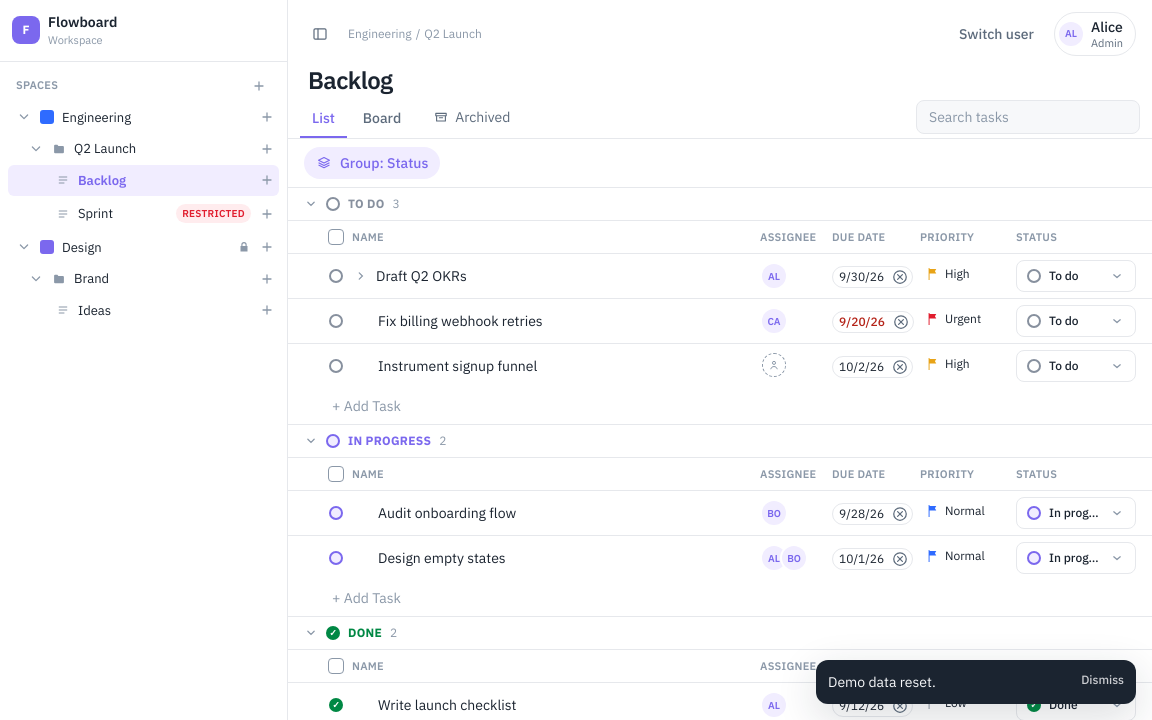
user switcher › hides Sprint and its tasks when switching from Alice to Bob
This screenshot has width=1152, height=720.
Expected: the button "Ideas" is shown, [56,294,251,326]
Click the button "Sprint": (114, 214) [56,198,172,230]
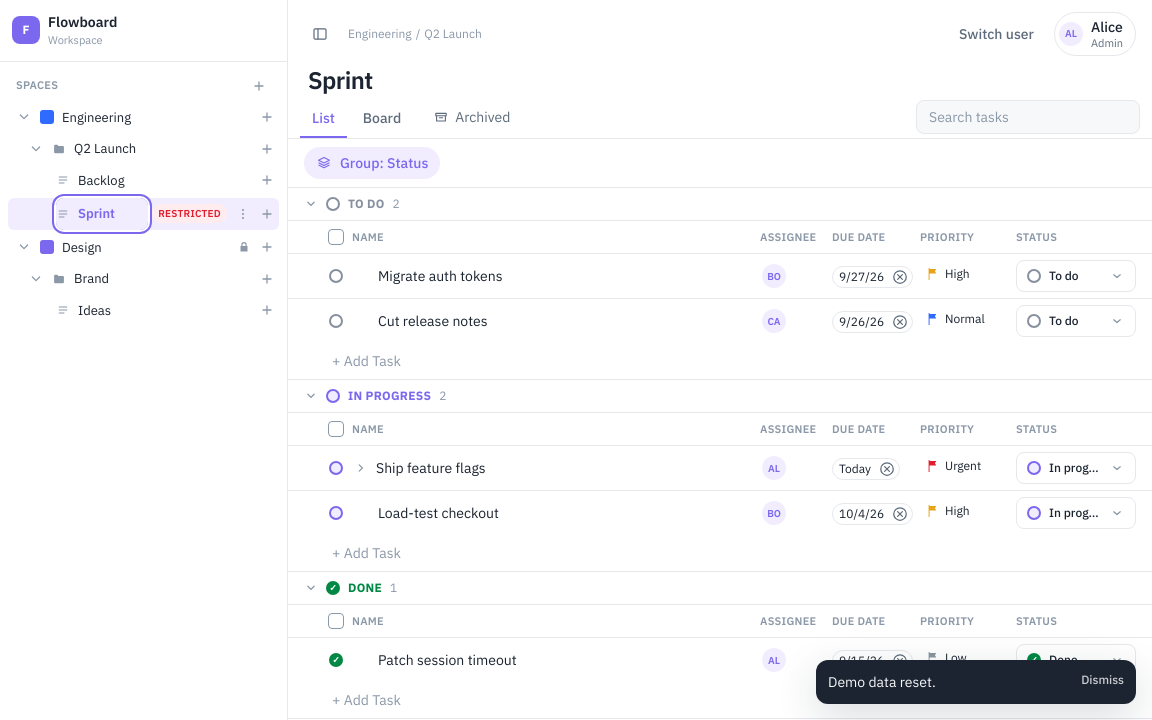
Now the heading "Sprint" is shown, box [308,64,373,96]
Now the button "Migrate auth tokens" is shown, box [378,266,760,286]
Click the button "Switch user": (996, 34) [951,20,1042,48]
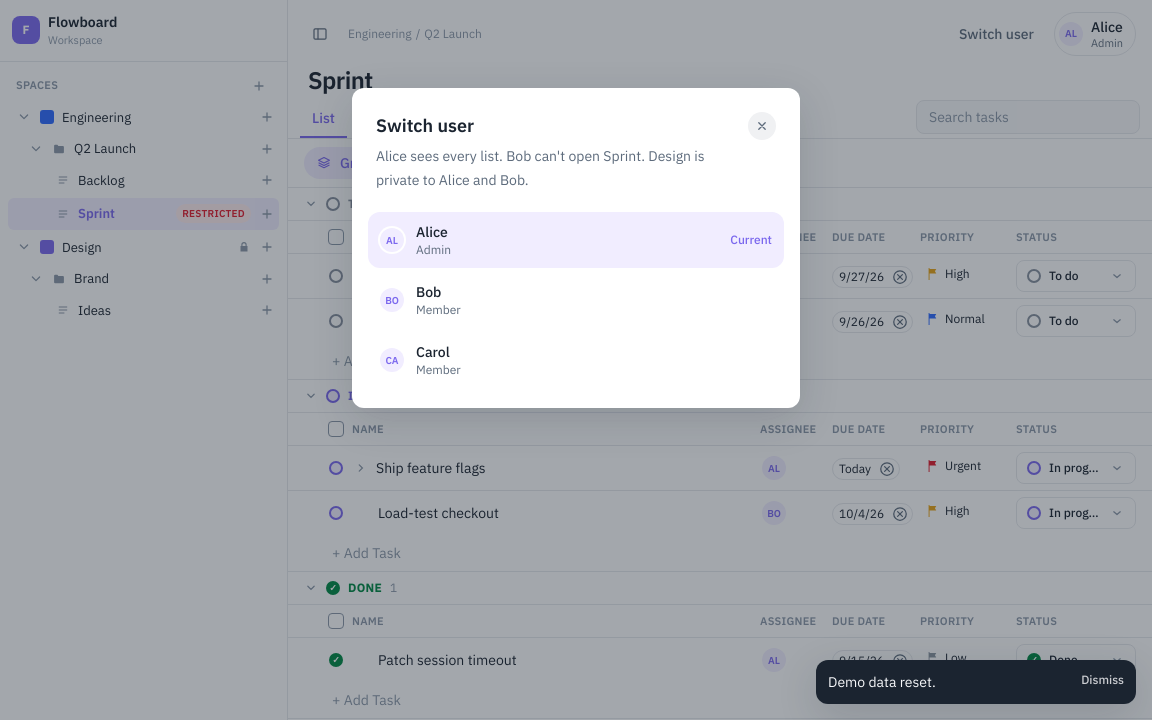
Click the button "BO Bob Member": (438, 310) [368,272,784,328]
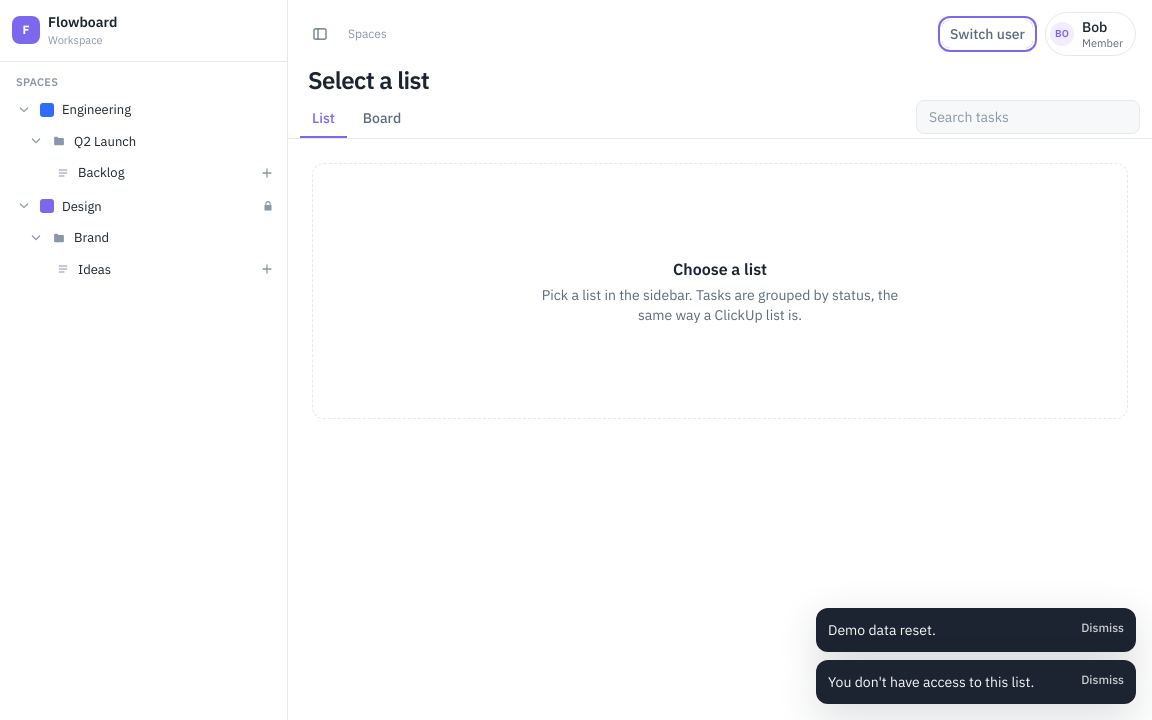
Expected: the button "Ideas" is shown, [56,254,251,285]
Now the button "Sprint" is gone
Now the button "Migrate auth tokens" is gone
